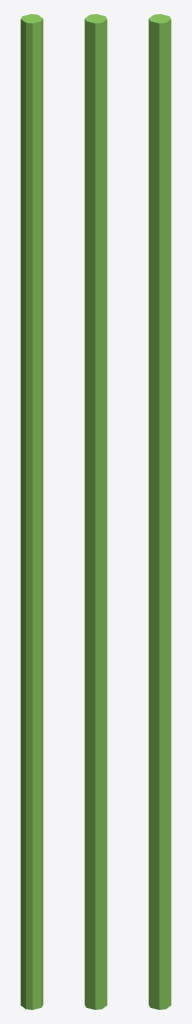
Rendered from strwStem.fbx.
The picture shows the model from 3 angles, left to right: view 1: azimuth 30°, elevation 25°; view 2: azimuth 150°, elevation 25°; view 3: azimuth 330°, elevation 25°; orthographic projection.
Visible parts, largest first — view 1: Stem.001; view 2: Stem.001; view 3: Stem.001.
Boxes of the visible parts, x1,y1,x2,y2 form: Stem.001: [20, 14, 43, 1009]; Stem.001: [84, 14, 107, 1009]; Stem.001: [148, 14, 171, 1009].
Bounding box in the file's own units: 3.97 × 216 × 3.97.
